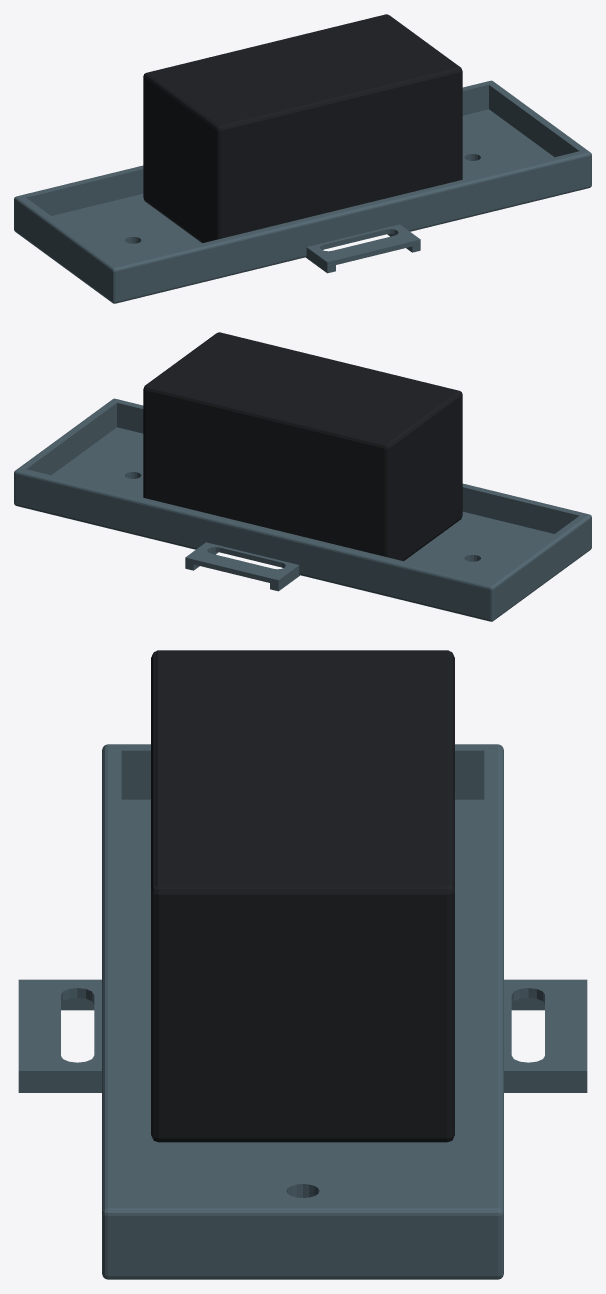
Rendered from battery_small.glb.
The picture shows the model from 3 angles, top to bottom: view 1: azimuth 30°, elevation 25°; view 2: azimuth 150°, elevation 25°; view 3: azimuth 270°, elevation 25°; orthographic projection. The views are drawn at different scales.
Parts seen in each view (by area): view 1: mesh_rubber_and_chip_3, print_battery_tray; view 2: mesh_rubber_and_chip_3, print_battery_tray; view 3: mesh_rubber_and_chip_3, print_battery_tray.
Boxes of the visible parts, x1=… form: mesh_rubber_and_chip_3: x1=143, y1=14, x2=462, y2=243; print_battery_tray: x1=14, y1=80, x2=591, y2=303; mesh_rubber_and_chip_3: x1=143, y1=332, x2=462, y2=561; print_battery_tray: x1=14, y1=398, x2=591, y2=621; mesh_rubber_and_chip_3: x1=151, y1=650, x2=454, y2=1142; print_battery_tray: x1=18, y1=744, x2=587, y2=1279.
Size of the model in its own units: 1.13 by 0.315 by 0.58.
